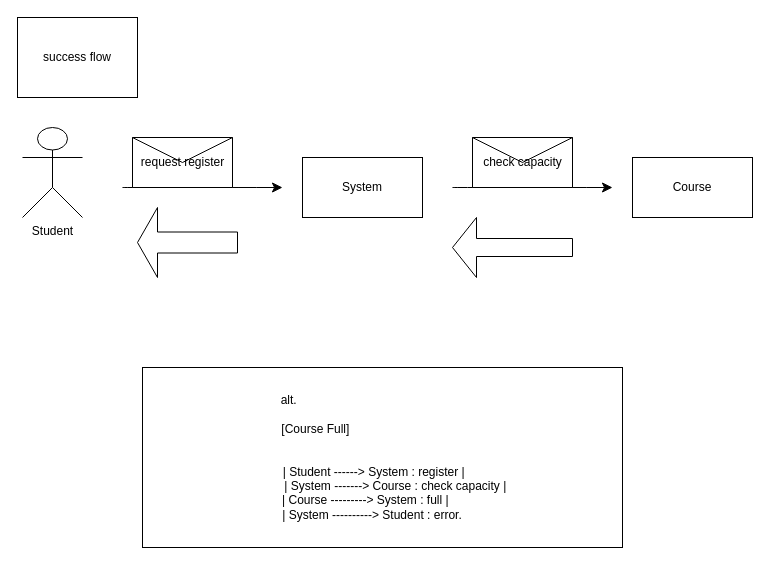
This 770x565 diagram has some shape labels left out. Each missing label, with the centre of its shape:
"available" goes at [512,247].
"success" goes at [187,242].
